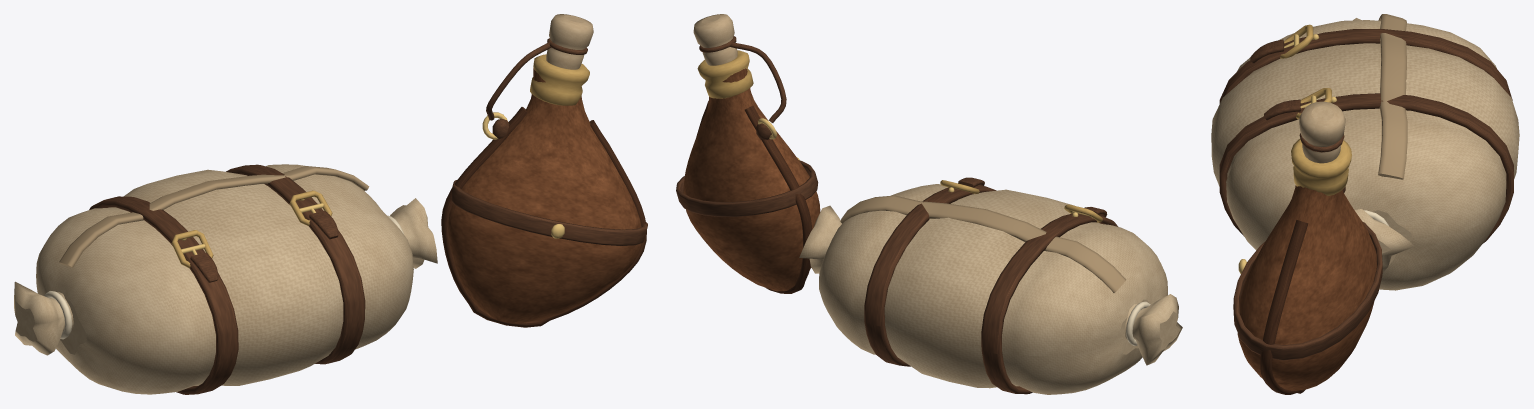
Rendered from pack_travel_rations.glb.
3 views of the same model, side by side, from view 1: azimuth 30°, elevation 25°; view 2: azimuth 150°, elevation 25°; view 3: azimuth 270°, elevation 25° (orthographic). The views are drawn at different scales.
Parts seen in each view (by area): view 1: pack_travel_rations; view 2: pack_travel_rations; view 3: pack_travel_rations.
Part boxes in pixels (<box>): pack_travel_rations: <box>14,14,647,394</box>; pack_travel_rations: <box>676,14,1182,394</box>; pack_travel_rations: <box>1211,14,1519,394</box>.
Bounding box in the file's own units: 0.96 × 0.4652 × 0.423.
Materials: 9 (6 with a texture image).
